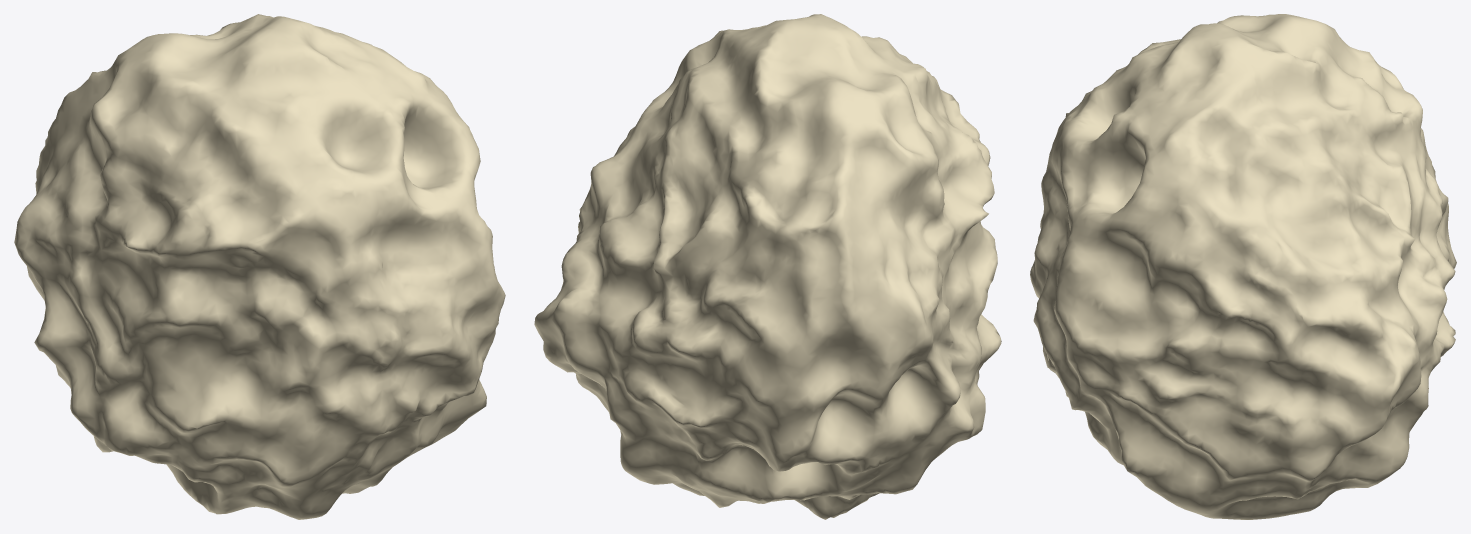
The model's file is meteorite_1.fbx.
3 renders of one model, left to right at view 1: azimuth 30°, elevation 25°; view 2: azimuth 150°, elevation 25°; view 3: azimuth 270°, elevation 25°, orthographic. The views are drawn at different scales.
Parts seen in each view (by area): view 1: obj2.002; view 2: obj2.002; view 3: obj2.002.
Boxes of the visible parts, left/top/right/bottom form: obj2.002: left=14, top=14, right=505, bottom=519; obj2.002: left=534, top=14, right=1001, bottom=519; obj2.002: left=1030, top=14, right=1456, bottom=519.
Bounding box in the file's own units: 172 × 195 × 167.
